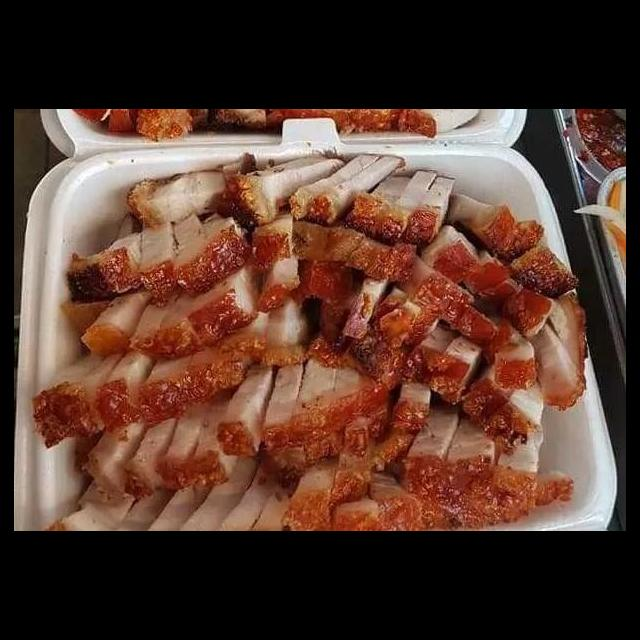thit heo quay: (58, 208, 270, 364), (244, 216, 445, 350), (398, 250, 543, 398), (76, 380, 247, 505), (256, 339, 397, 490), (398, 370, 557, 500), (420, 222, 580, 338), (137, 302, 274, 436), (25, 344, 148, 452), (208, 151, 349, 233), (120, 150, 260, 226), (340, 164, 462, 250), (282, 147, 409, 228), (523, 287, 595, 413), (443, 187, 548, 267), (215, 350, 273, 464), (277, 445, 345, 531), (384, 377, 437, 436)
